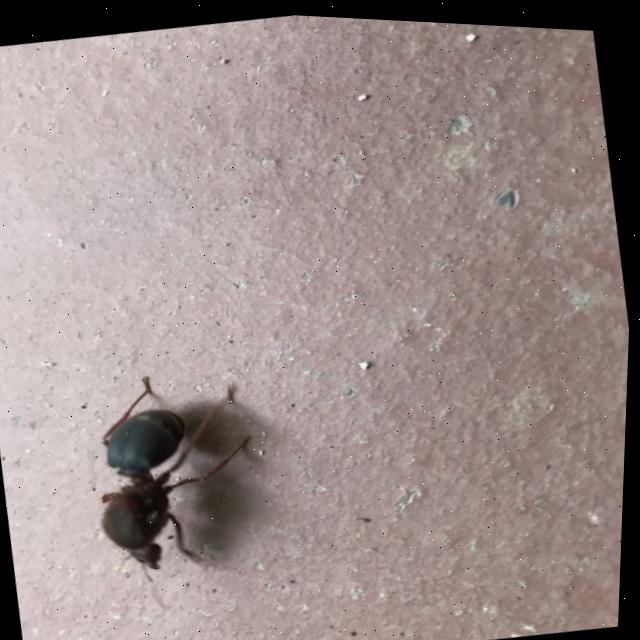Alive-Female-Dealate: (78, 356, 280, 593)
